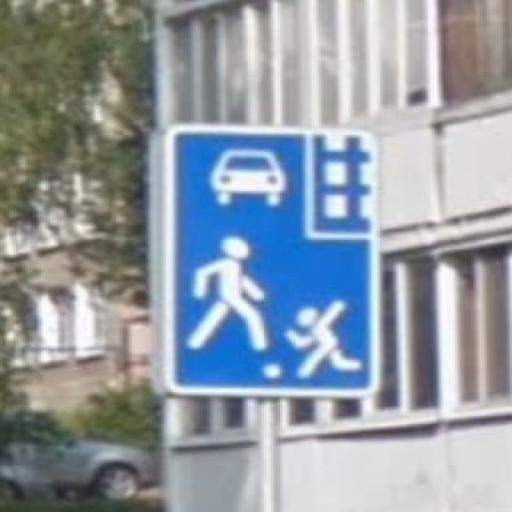traffic_sign: (163, 125, 383, 400)
